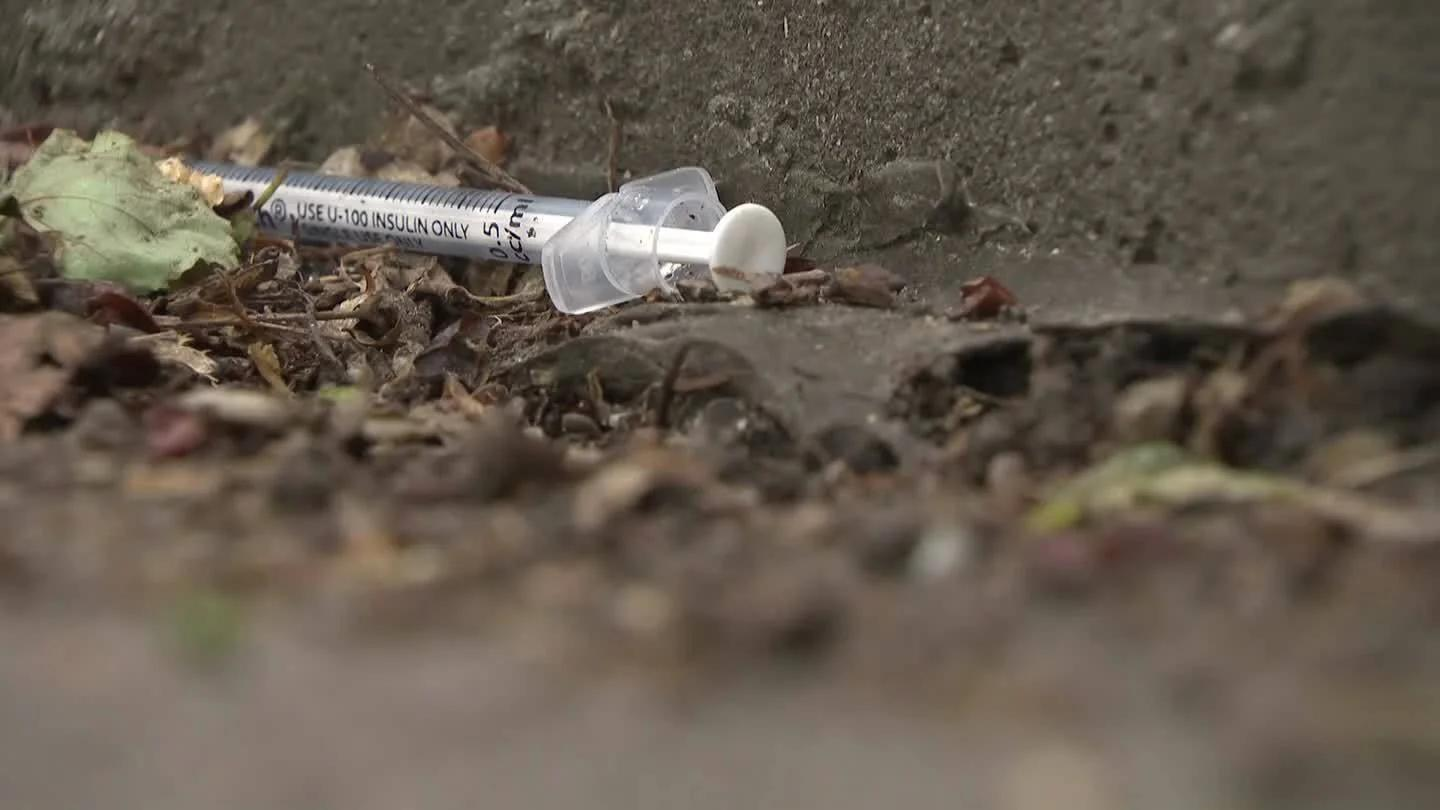Syringe: (257, 167, 785, 313)
